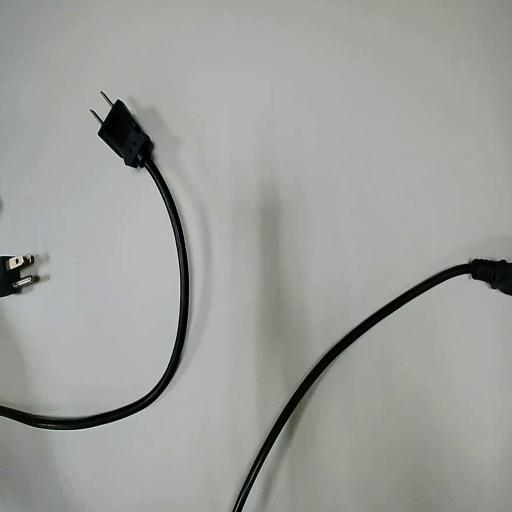wire: (233, 259, 511, 511), (0, 101, 188, 428)
